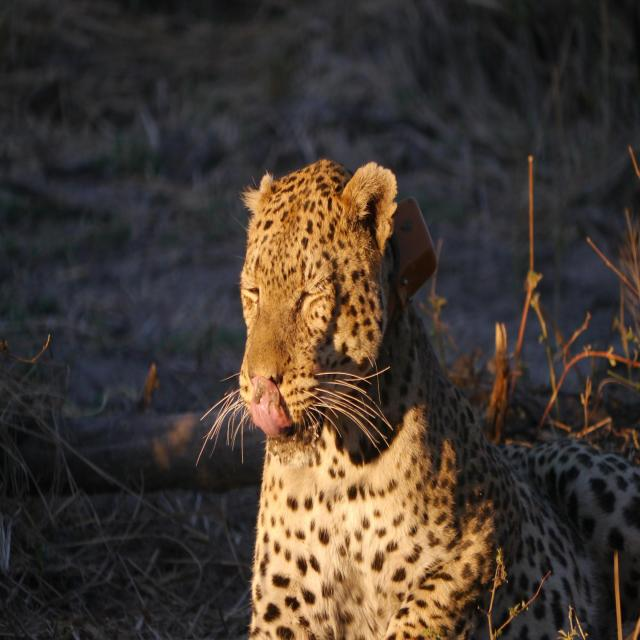Leopard: (238, 162, 637, 640)
